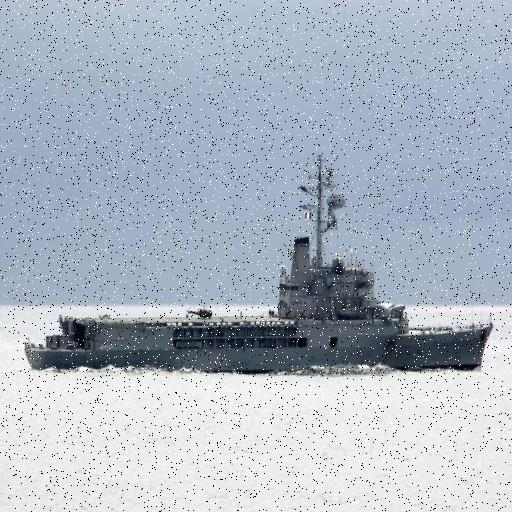Portanaves: (23, 149, 499, 376)
